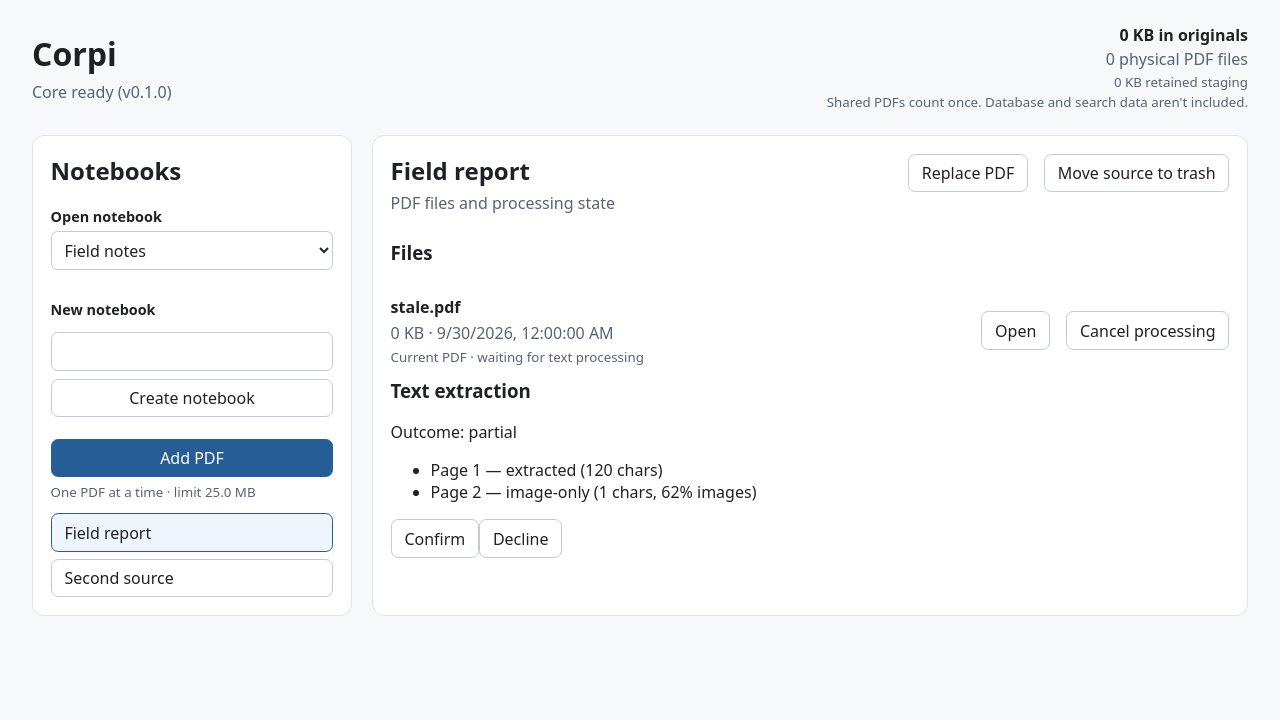
drops polling responses that outlive their effect across a source round-trip
The width and height of the screenshot is (1280, 720).
Expected: the text "stale.pdf" is shown, [391, 296, 460, 318]
Step 1. Click the button "Second source" → [119, 578], box [51, 559, 333, 597]
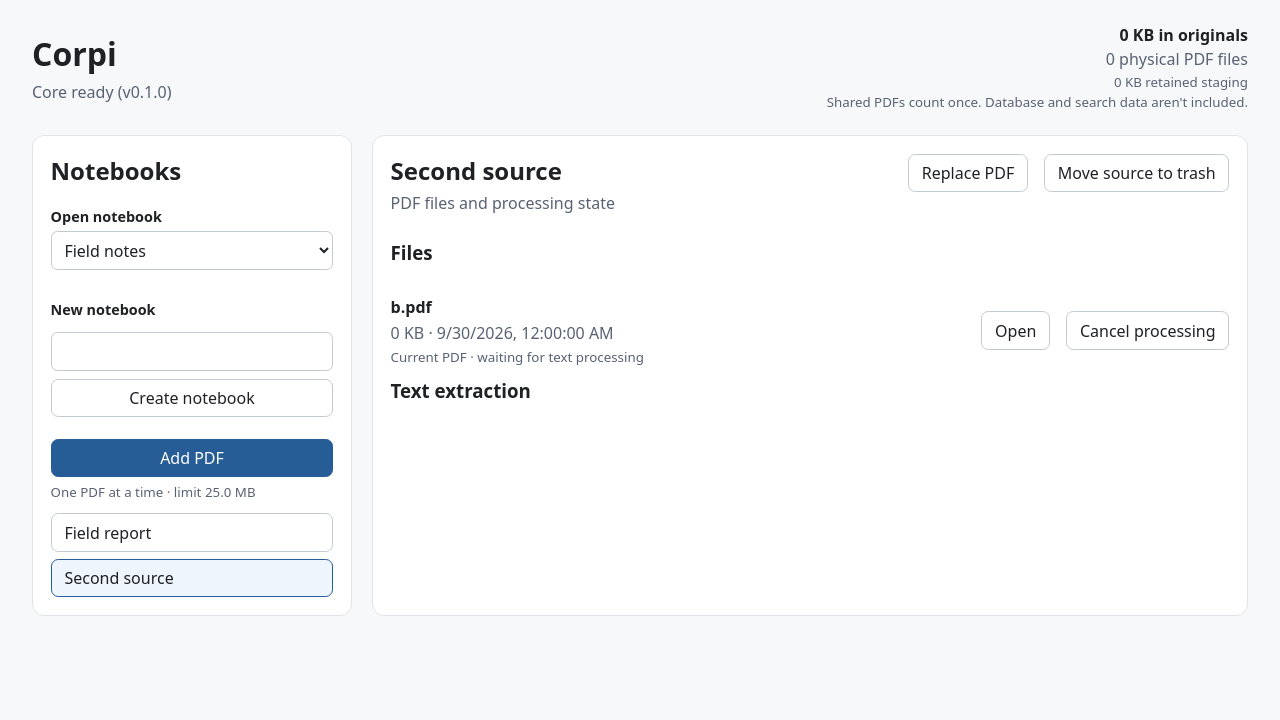
Now the text "b.pdf" is shown, box [391, 296, 432, 318]
Step 2. Click the button "Field report" → [108, 533], box [51, 513, 333, 552]
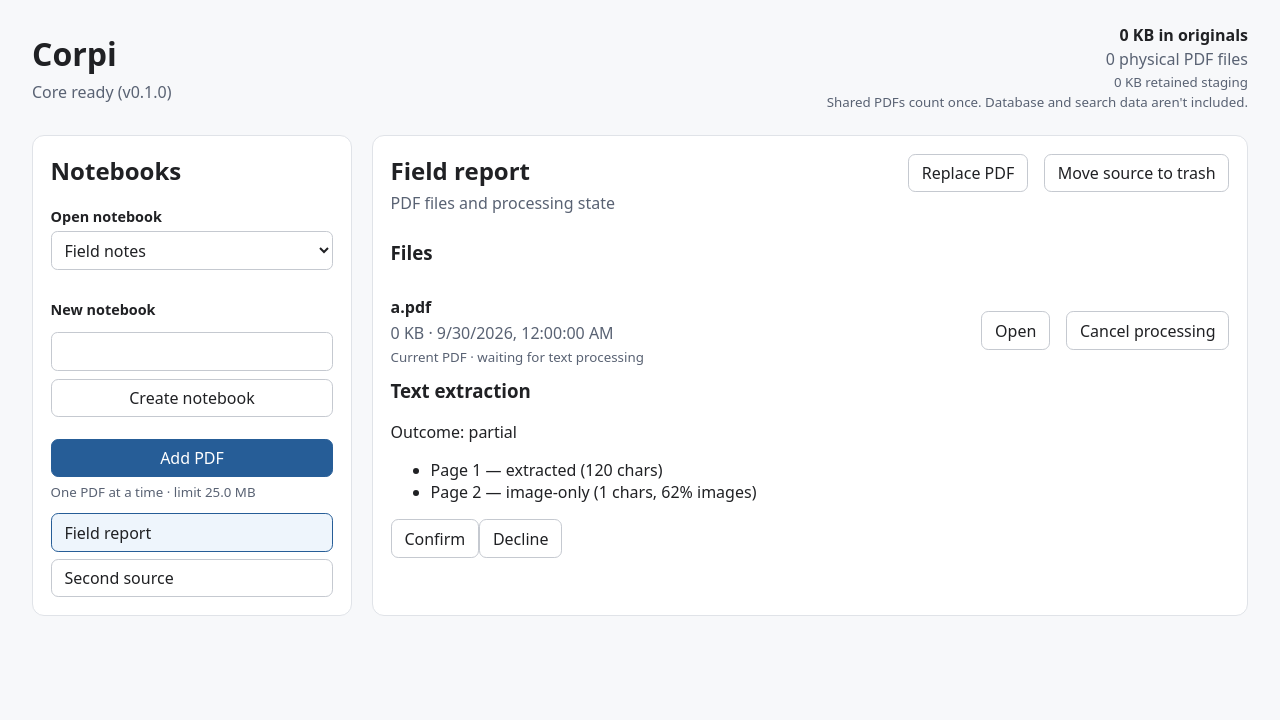
Expected: the text "stale.pdf" is not shown
Now the text "a.pdf" is shown, box [391, 296, 431, 318]
Now the text "Outcome: partial" is shown, box [391, 421, 517, 443]
